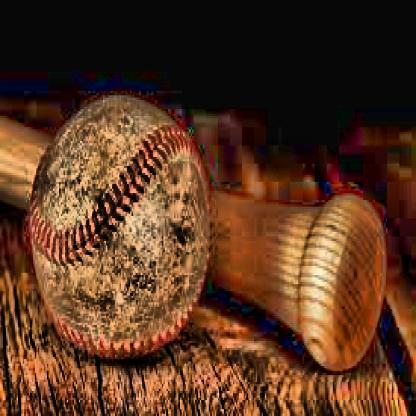baseball: (32, 88, 217, 362)
